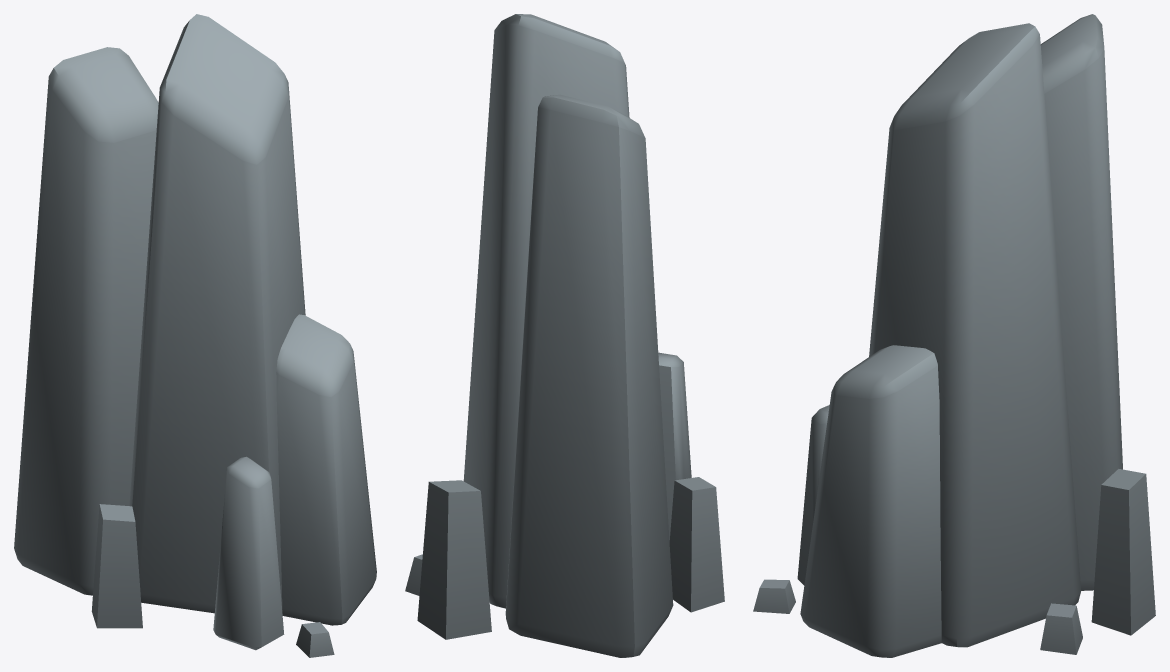
File: Rock_4_H_Color1.gltf
The picture shows the model from 3 angles, left to right: view 1: azimuth 30°, elevation 25°; view 2: azimuth 150°, elevation 25°; view 3: azimuth 270°, elevation 25°; orthographic projection. The views are drawn at different scales.
Visible parts, largest first — view 1: Rock_4_H_Color1; view 2: Rock_4_H_Color1; view 3: Rock_4_H_Color1.
Boxes of the visible parts, x1,y1,x2,y2 form: Rock_4_H_Color1: [14, 14, 376, 657]; Rock_4_H_Color1: [405, 14, 724, 657]; Rock_4_H_Color1: [753, 14, 1155, 657].
Bounding box in the file's own units: 1.83 × 3.74 × 2.34.
1 material, 1 textured.
